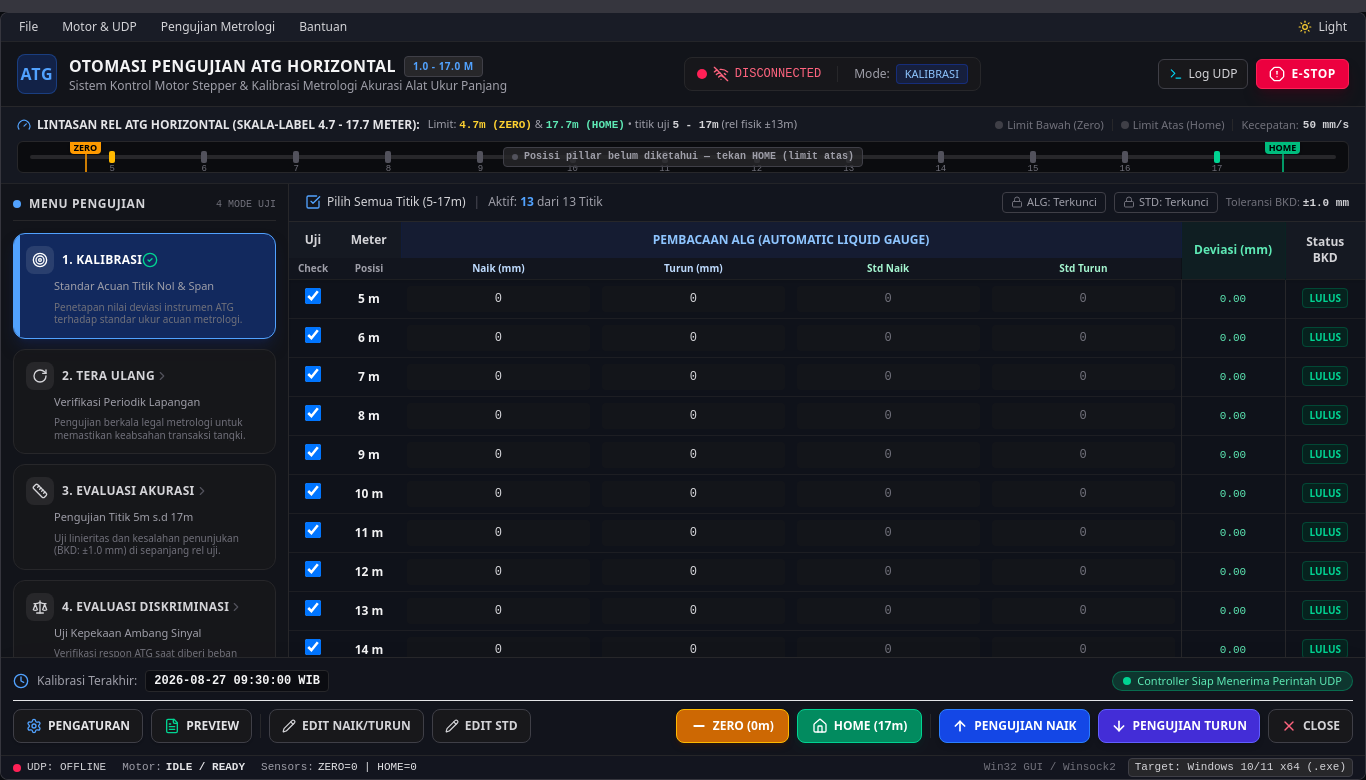
Test case: App — koreksi senior: posisi pillar hanya tampil setelah sensor A1 › setelah HOME_DONE (sensor A1 ujung 17 m) posisi pillar muncul di ujung rel
Click the button with id "btn-toggle-tcp" at (759, 74), box [697,66,821,82]
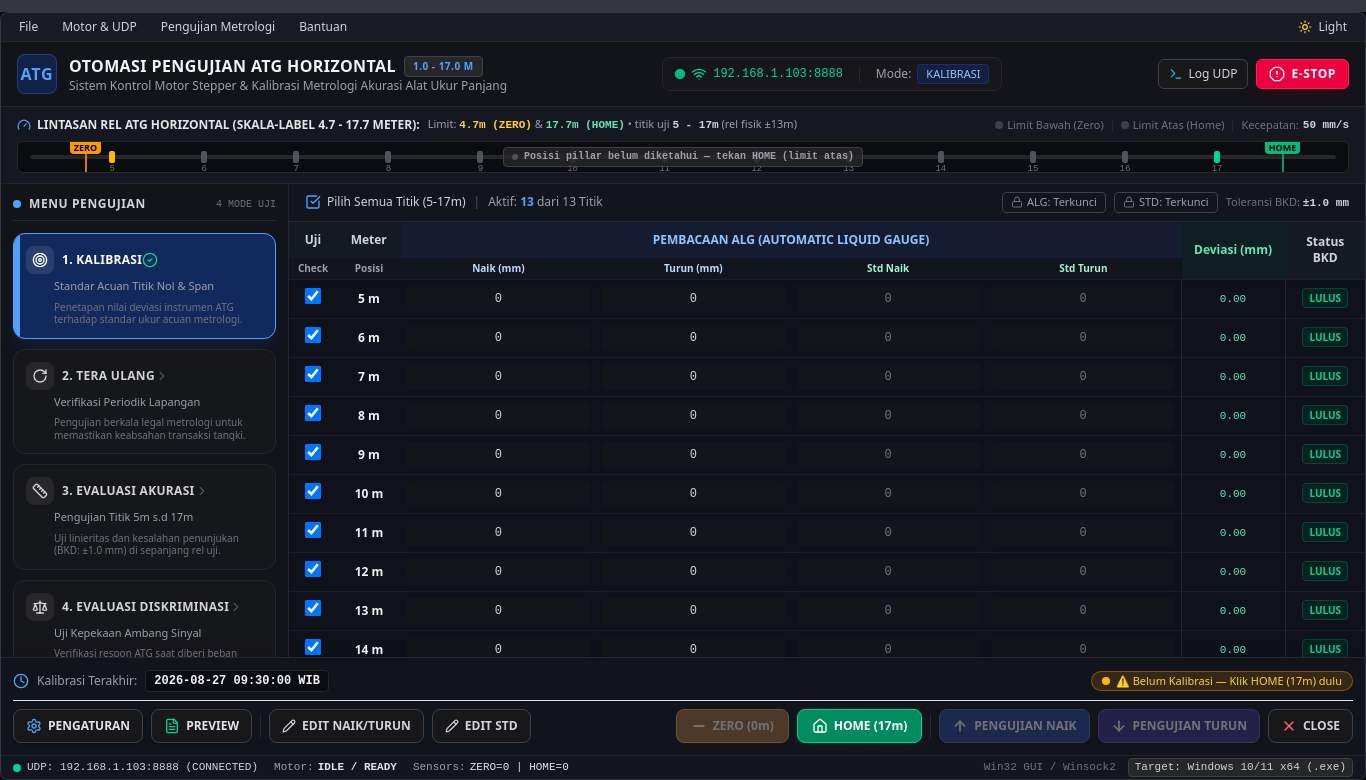
Click the button with id "btn-toolbar-home" at (860, 726), box [797,709,922,743]
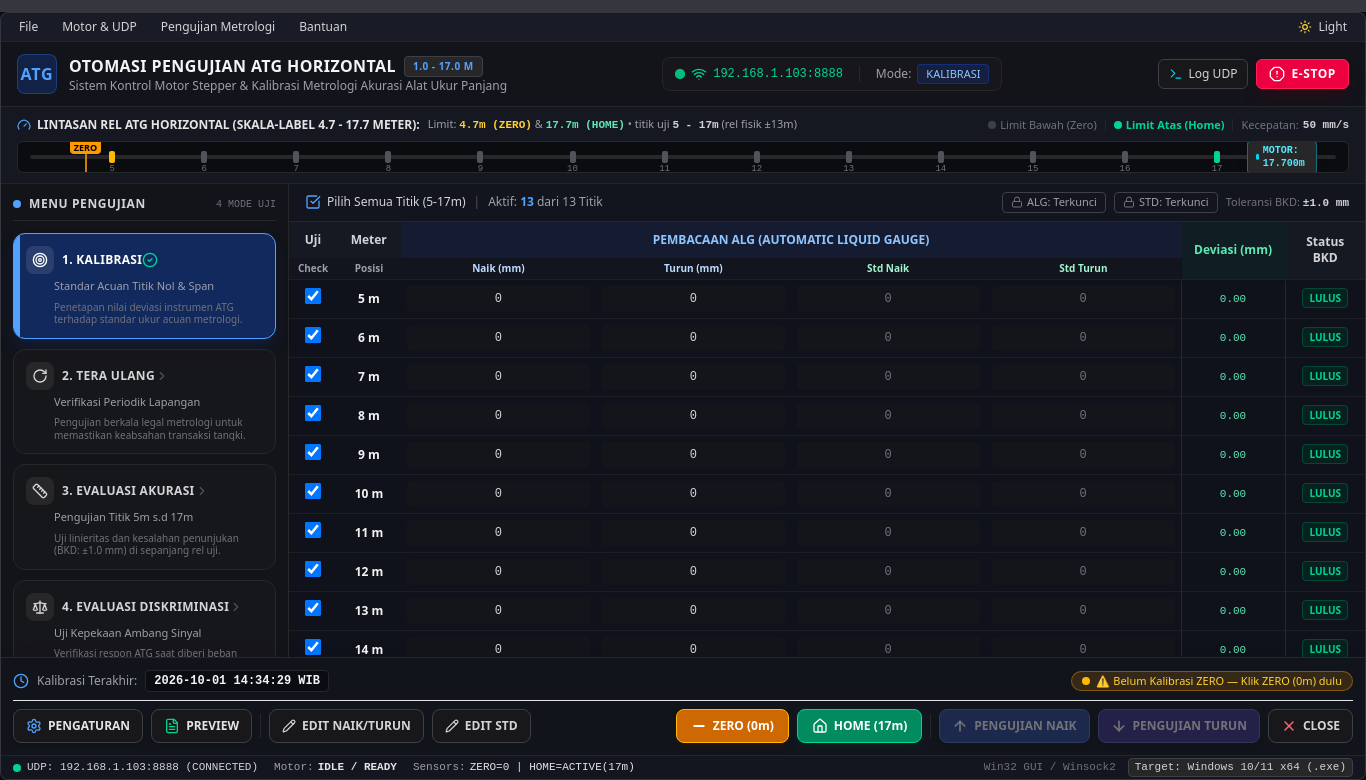
expect the element with id "lbl-motor-posisi" reads "MOTOR: 17.700m": met, box [1246,141,1316,173]
expect the element with id "lbl-posisi-belum-diketahui" is gone: met
expect the button with id "btn-toolbar-zero" is enabled: met, box [676,709,789,743]
